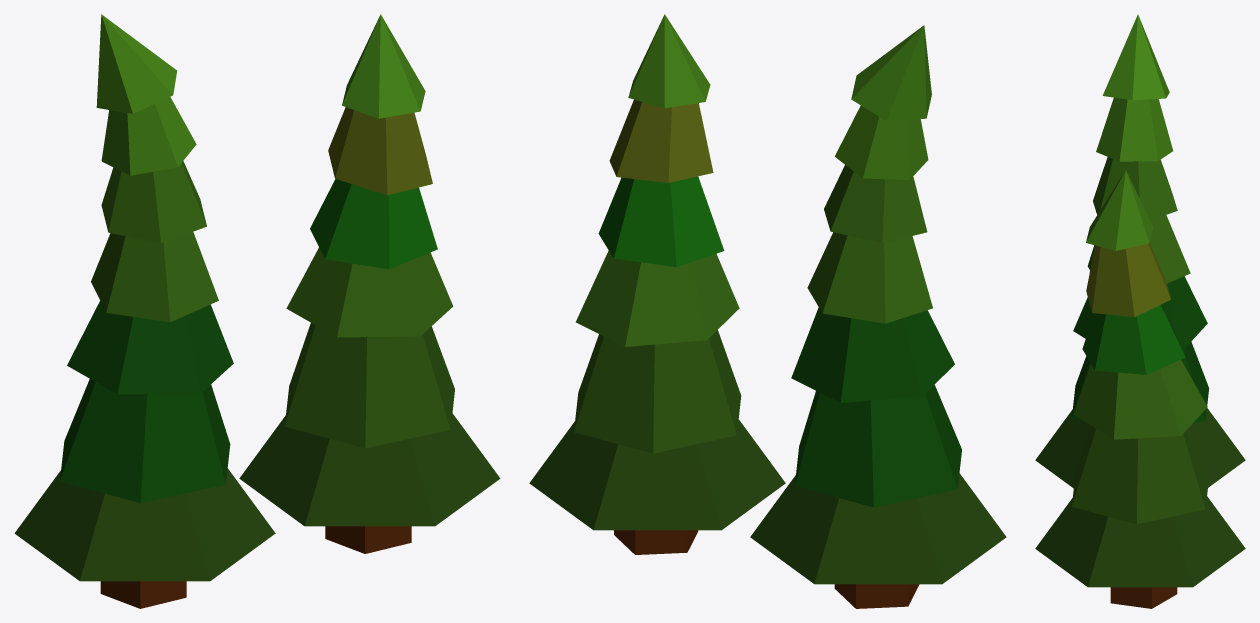
Rendered from simpletreefbx.fbx.
3 renders of one model, left to right at view 1: azimuth 30°, elevation 25°; view 2: azimuth 150°, elevation 25°; view 3: azimuth 270°, elevation 25°, orthographic. The views are drawn at different scales.
Parts seen in each view (by area): view 1: tree01, tree02; view 2: tree01, tree02; view 3: tree02, tree01.
Part boxes in pixels (bbox=[...]): tree01: bbox=[14, 14, 275, 608]; tree02: bbox=[239, 14, 500, 553]; tree01: bbox=[750, 25, 1006, 608]; tree02: bbox=[529, 14, 785, 554]; tree02: bbox=[1035, 170, 1245, 608]; tree01: bbox=[1035, 14, 1245, 488].
Size of the model in its own units: 53363 by 71243 by 28695.
